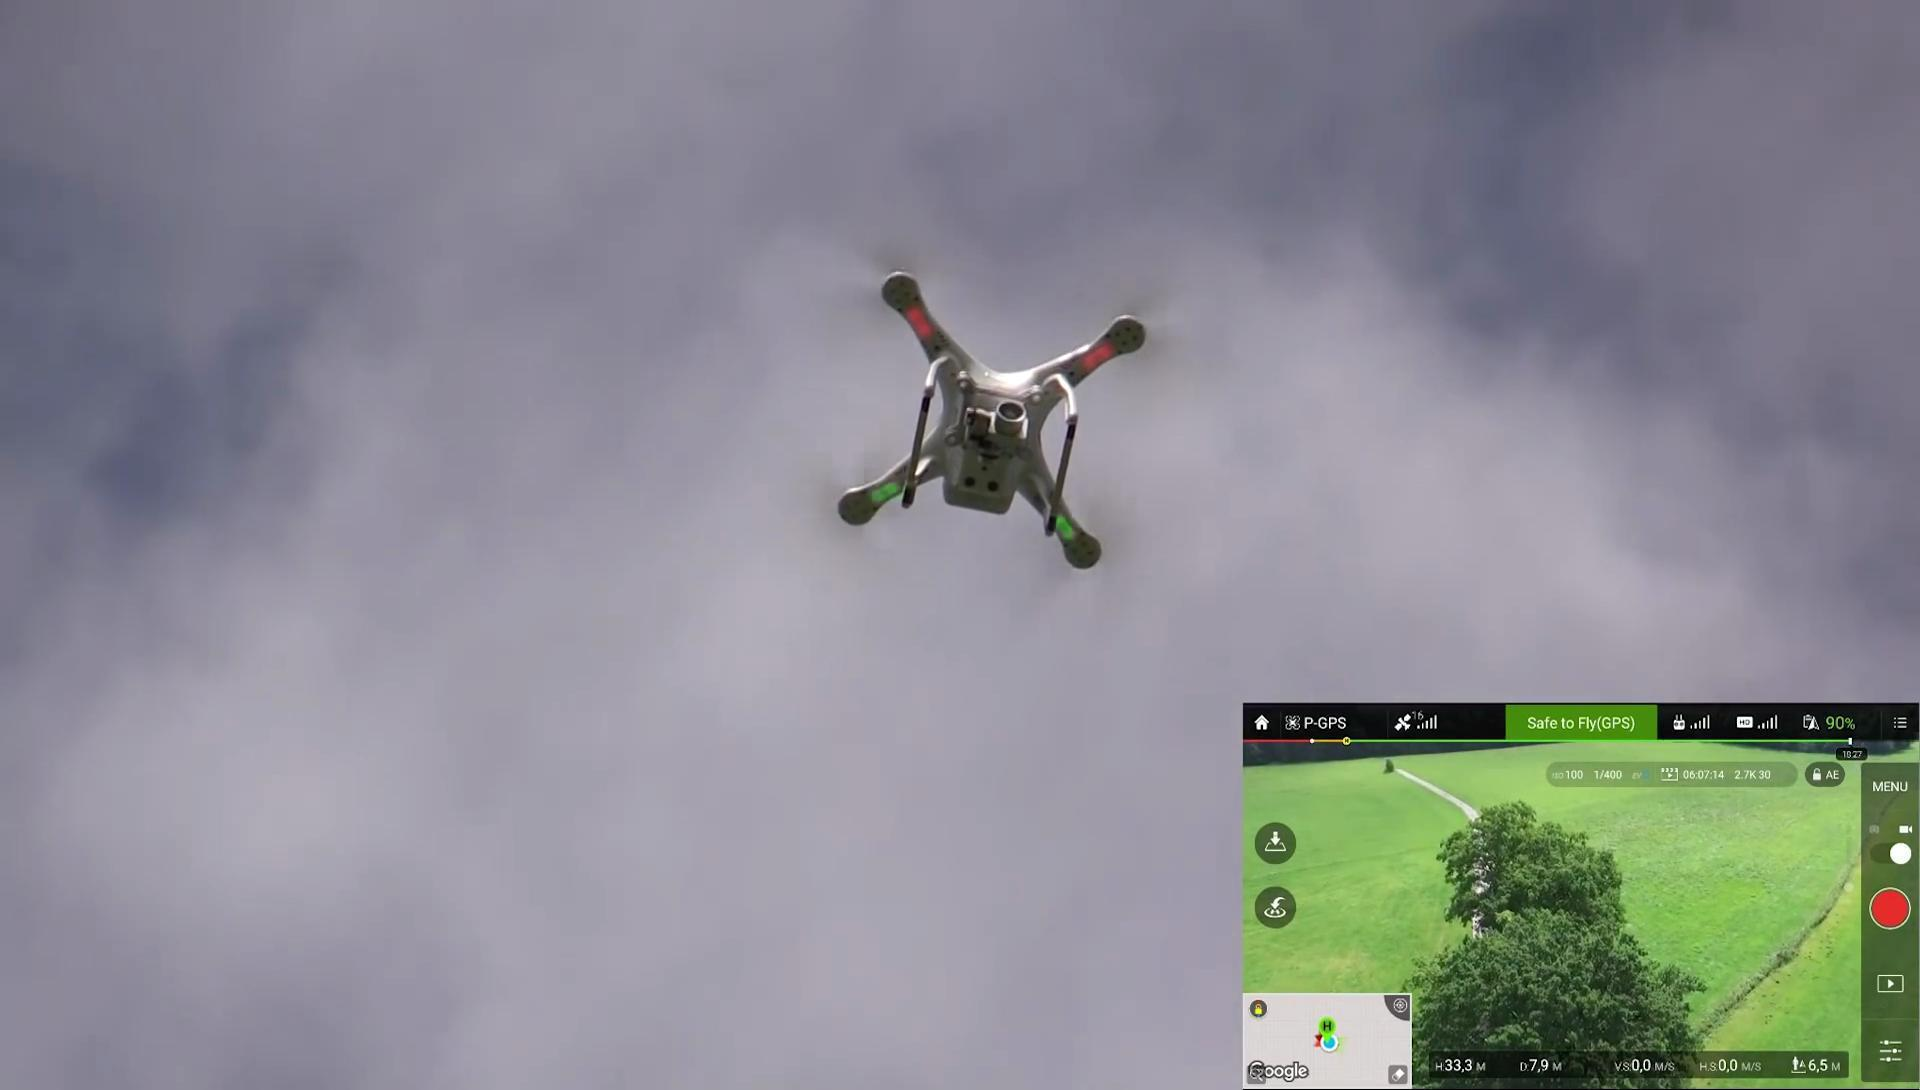drone: (832, 261, 1158, 573)
